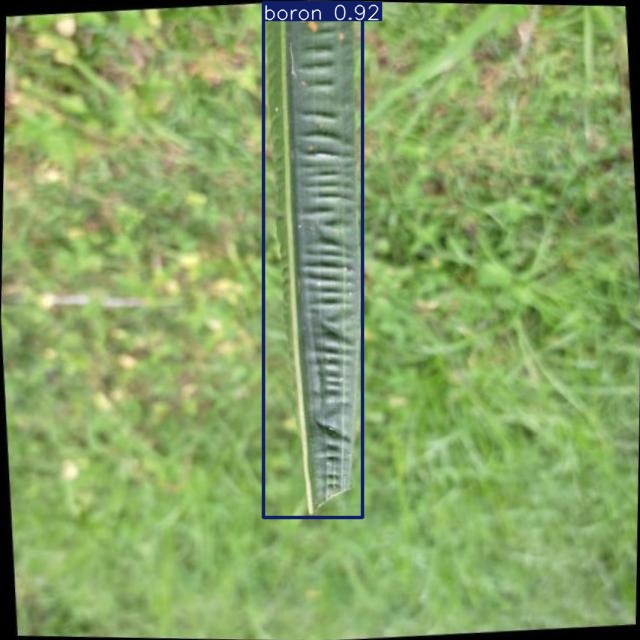nitrogen: (264, 2, 362, 517)
